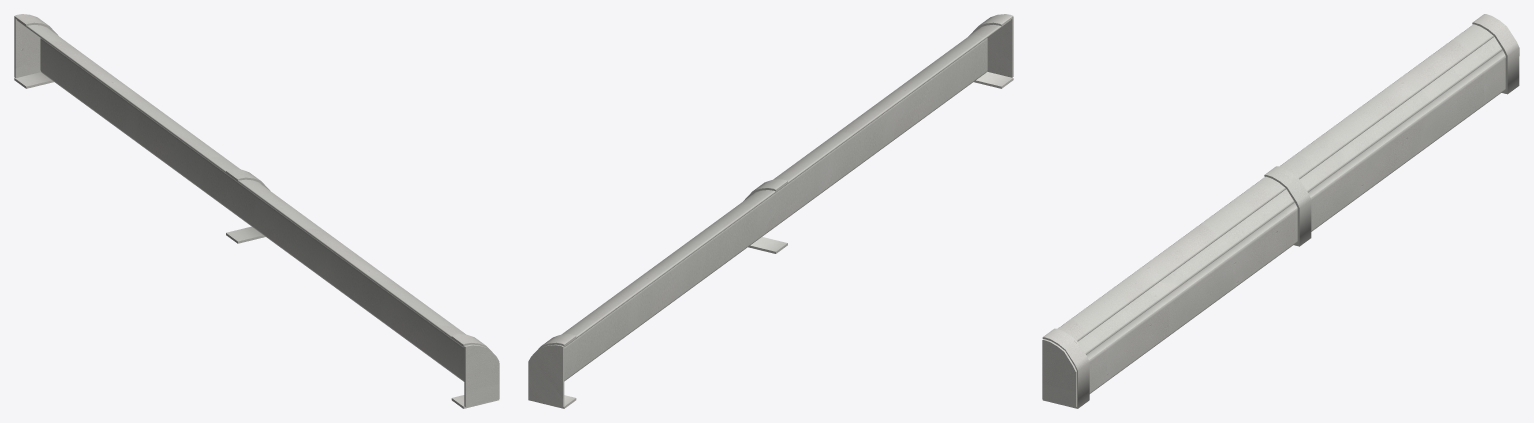
The model's file is Nuanqi.fbx.
3 views of the same model, side by side, from view 1: azimuth 30°, elevation 25°; view 2: azimuth 150°, elevation 25°; view 3: azimuth 330°, elevation 25° (orthographic).
Visible parts, largest first — view 1: polySurface680; view 2: polySurface680; view 3: polySurface680.
Boxes of the visible parts, <box> form: polySurface680: <box>14,14,499,408</box>; polySurface680: <box>528,14,1013,408</box>; polySurface680: <box>1042,14,1519,408</box>.
Size of the model in its own units: 0.1323 by 0.2275 by 2.87.
